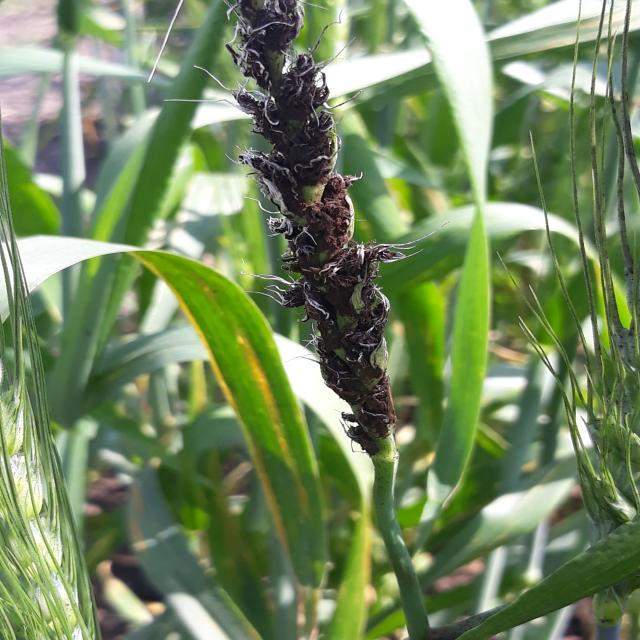loose_charred: (202, 0, 508, 563), (539, 51, 640, 521)
yellow_rust: (130, 253, 329, 576)
